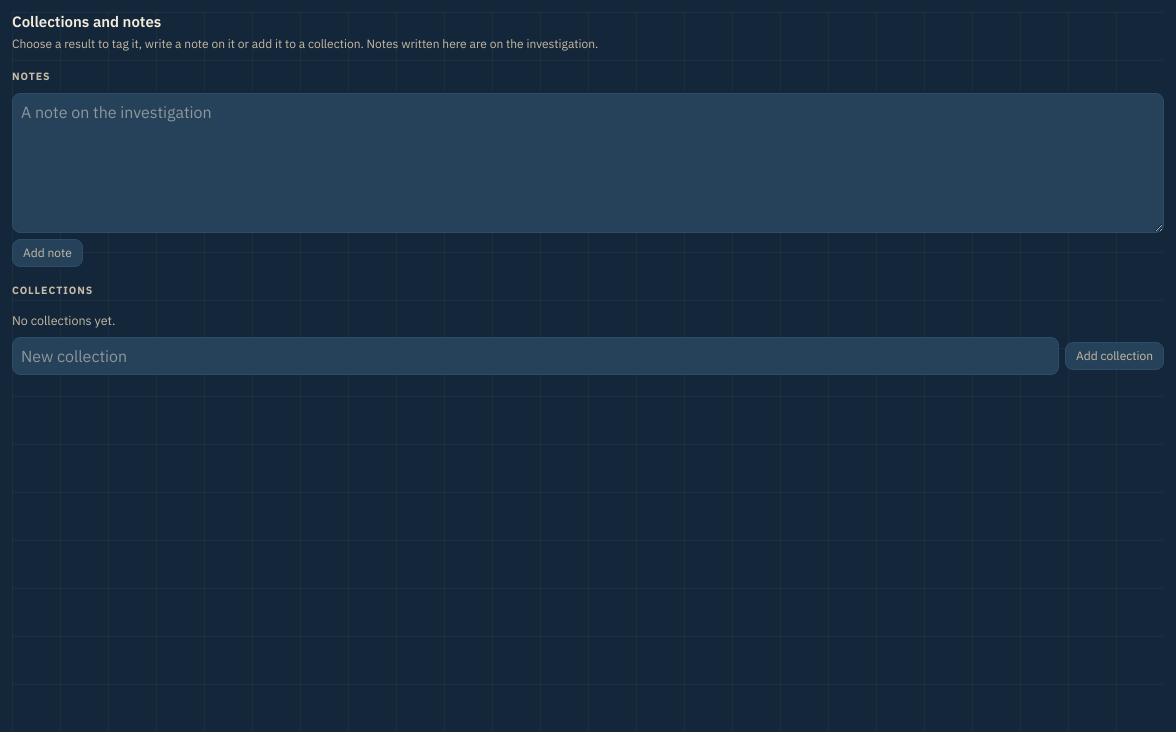
Test: a note in the marks panel › needs words, shows a failed save in its own form, and clears once kept
Click the button "Add note" at (47, 253), box [12, 239, 83, 267]
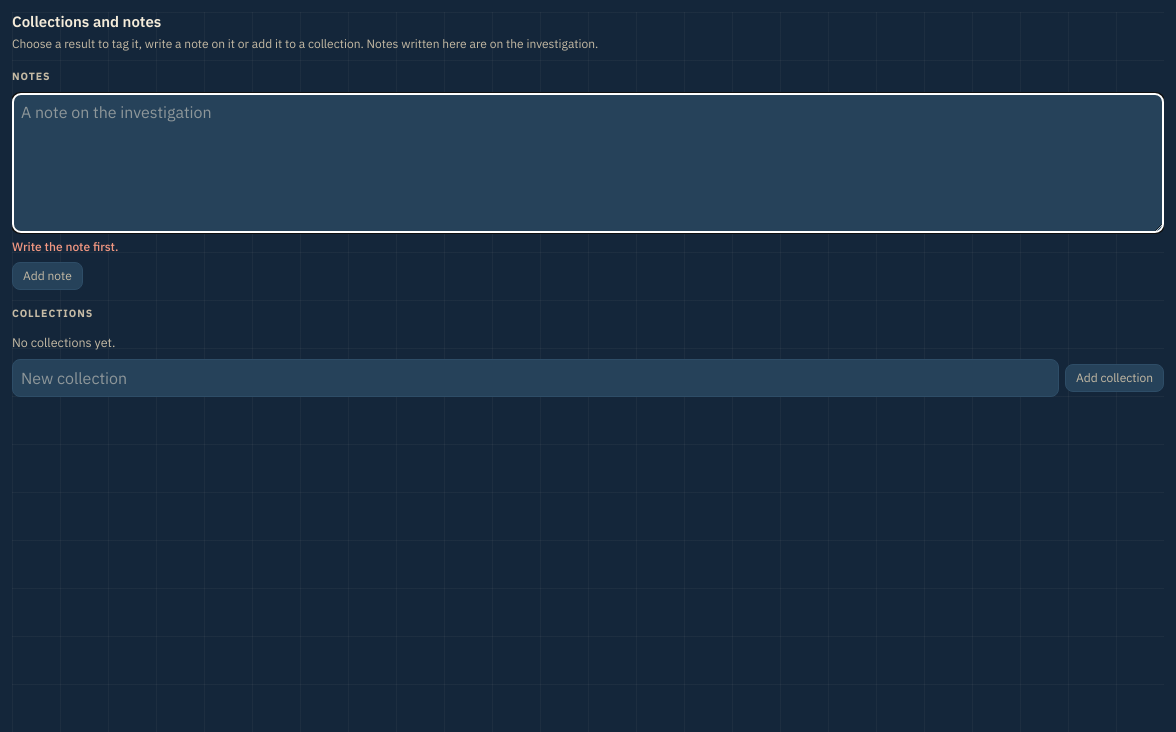
Expected: the text "Write the note first." is shown, [12, 239, 118, 254]
Type "Ask the registry" into the text box named "New note" at (588, 163), box [12, 93, 1164, 233]
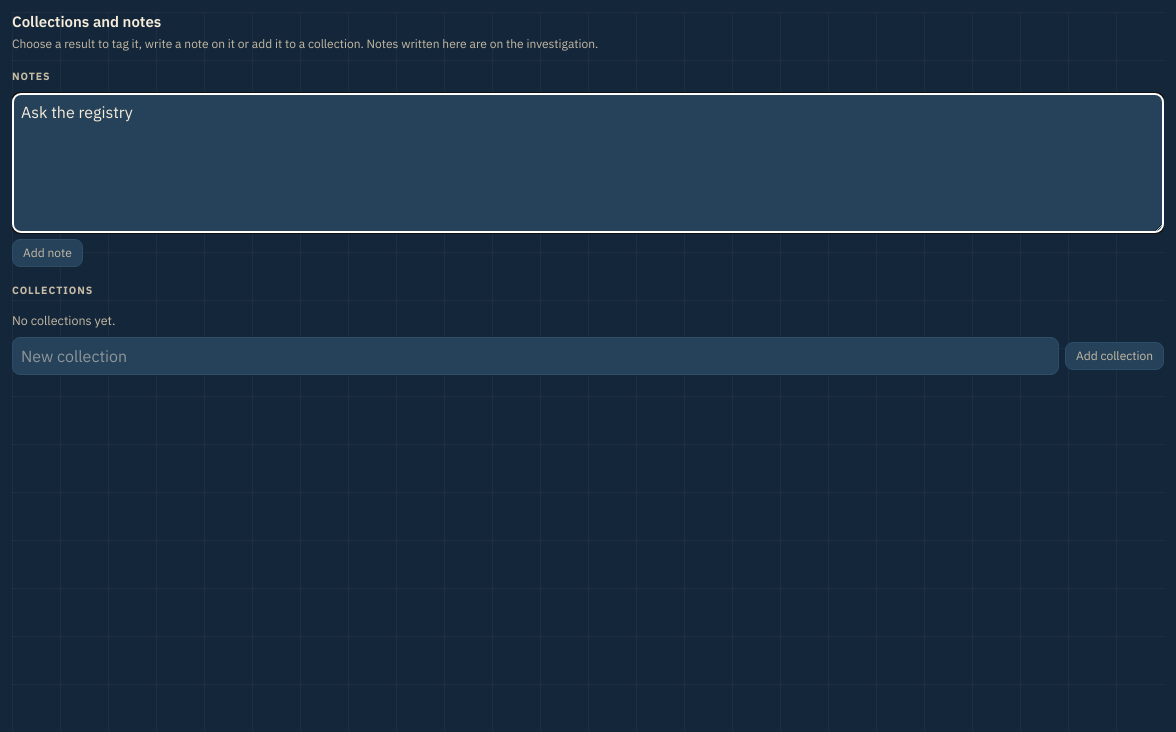
Click the button "Add note" at (47, 253), box [12, 239, 83, 267]
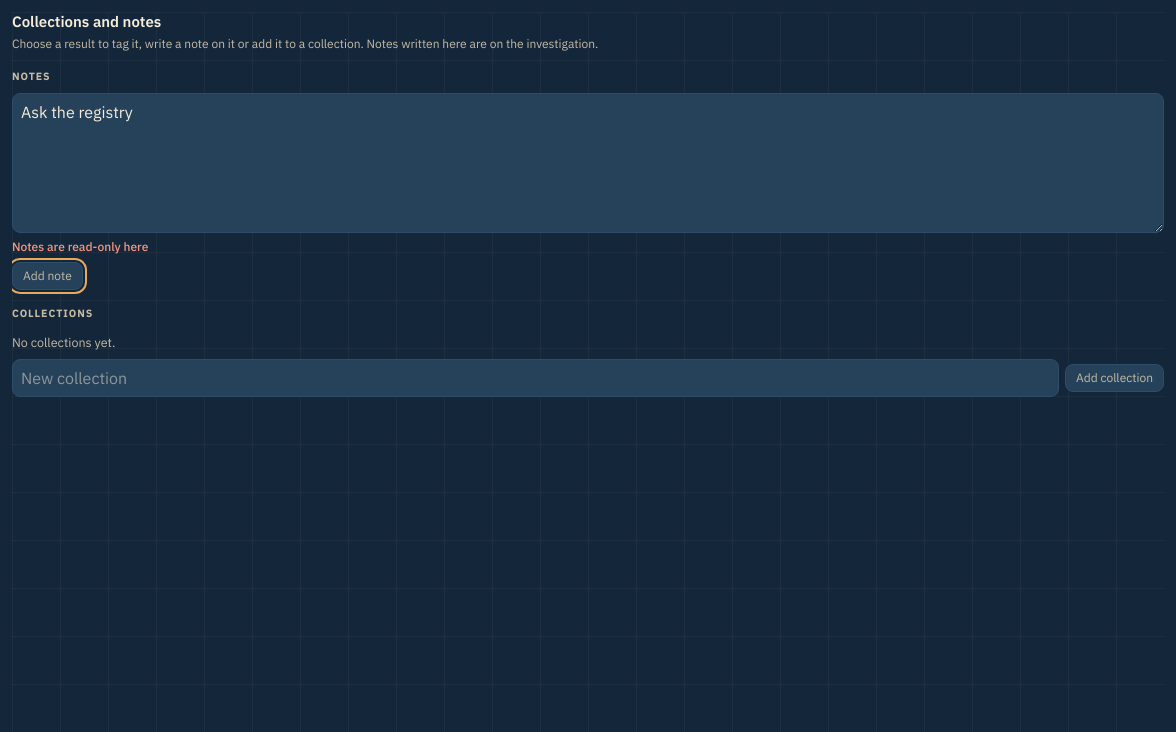
Expected: the message reads "Notes are read-only here", [12, 239, 148, 254]
Click the button "Add note" at (47, 276), box [12, 262, 83, 290]
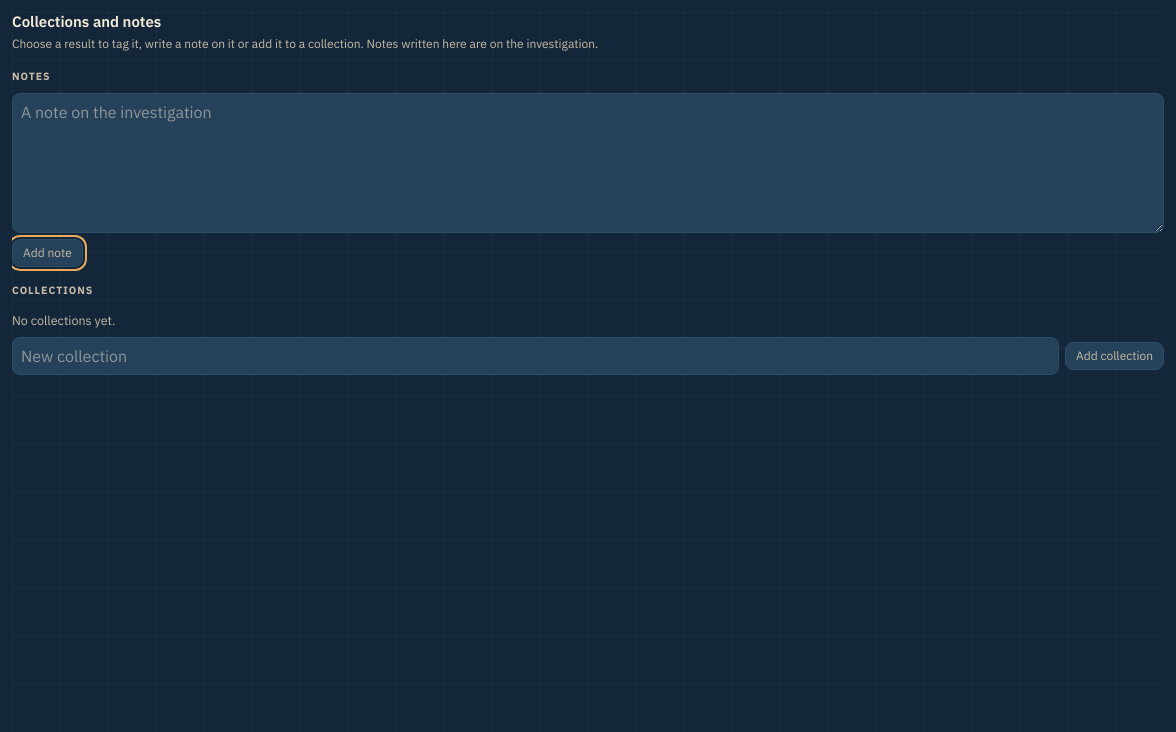
Expected: the text box named "New note" is empty, [12, 93, 1164, 233]
Expected: the message "Notes are read-only here" is gone
